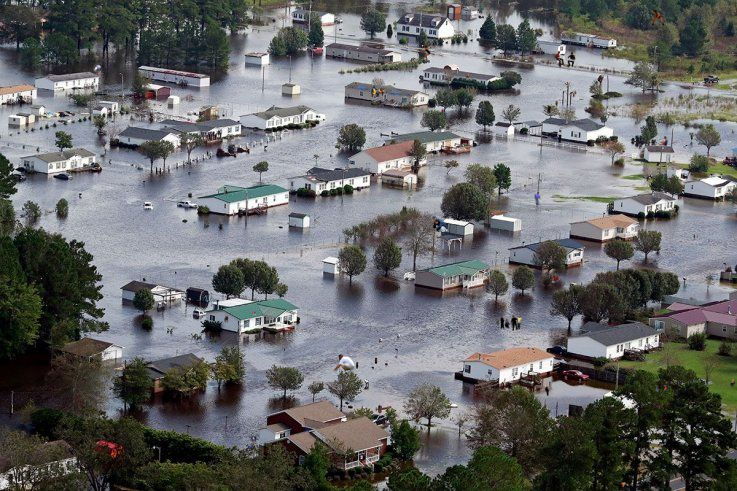Human: (420, 216, 448, 234), (332, 354, 356, 374), (419, 45, 449, 61), (496, 315, 522, 331), (554, 51, 576, 68), (651, 9, 665, 26), (551, 273, 565, 287), (440, 272, 454, 284), (371, 86, 386, 97), (555, 93, 566, 107), (248, 436, 259, 449), (656, 385, 667, 396), (620, 482, 633, 491), (725, 378, 735, 389), (658, 136, 668, 146), (534, 192, 541, 205), (94, 65, 102, 76), (224, 315, 230, 323), (224, 189, 230, 196), (616, 286, 621, 294), (440, 109, 446, 115), (545, 387, 549, 396), (547, 105, 551, 113), (490, 423, 499, 426), (207, 151, 212, 156), (715, 439, 718, 446), (466, 74, 469, 80), (252, 311, 256, 315), (69, 344, 71, 348), (427, 478, 429, 482), (658, 50, 659, 53)
